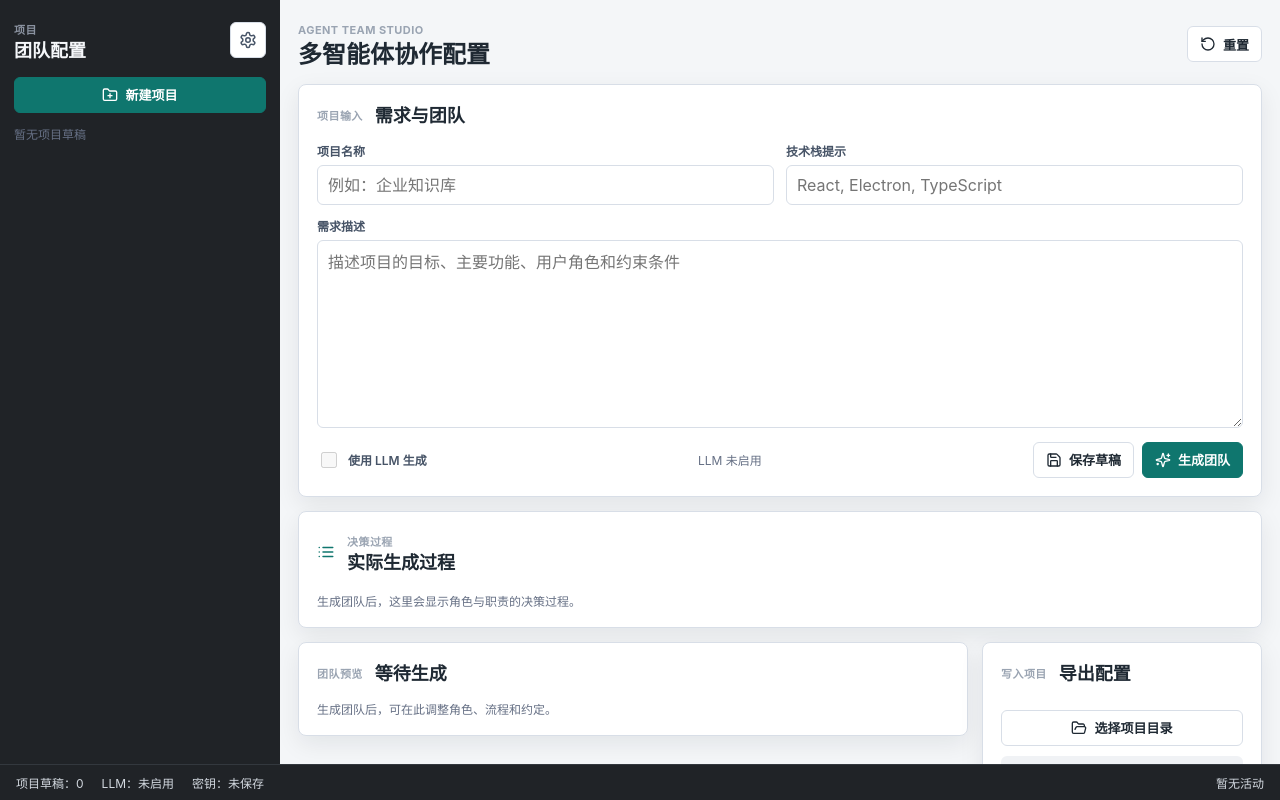
Test: renderer critical workflow smoke › creates a new project draft from the sidebar
The image size is (1280, 800).
expect the text "暂无项目草稿" is shown: met, box [14,126,86,142]
Click the button "新建项目": (140, 94) [14,76,266,112]
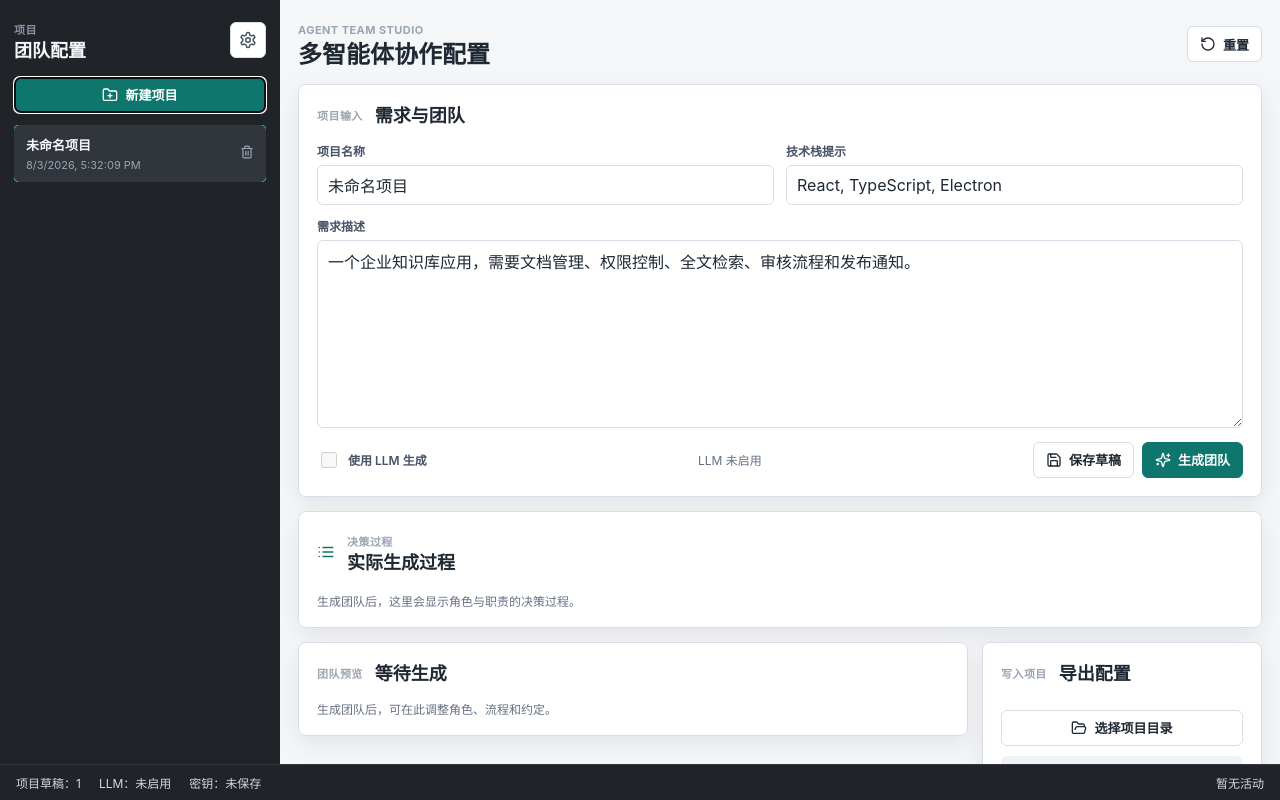
expect the text "未命名项目" is shown: met, box [26,134,91,154]
expect the text "暂无项目草稿" is gone: met
